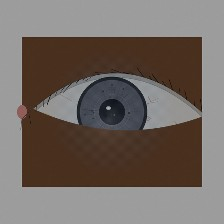pinguecula_lesion: (16, 98, 62, 135)
